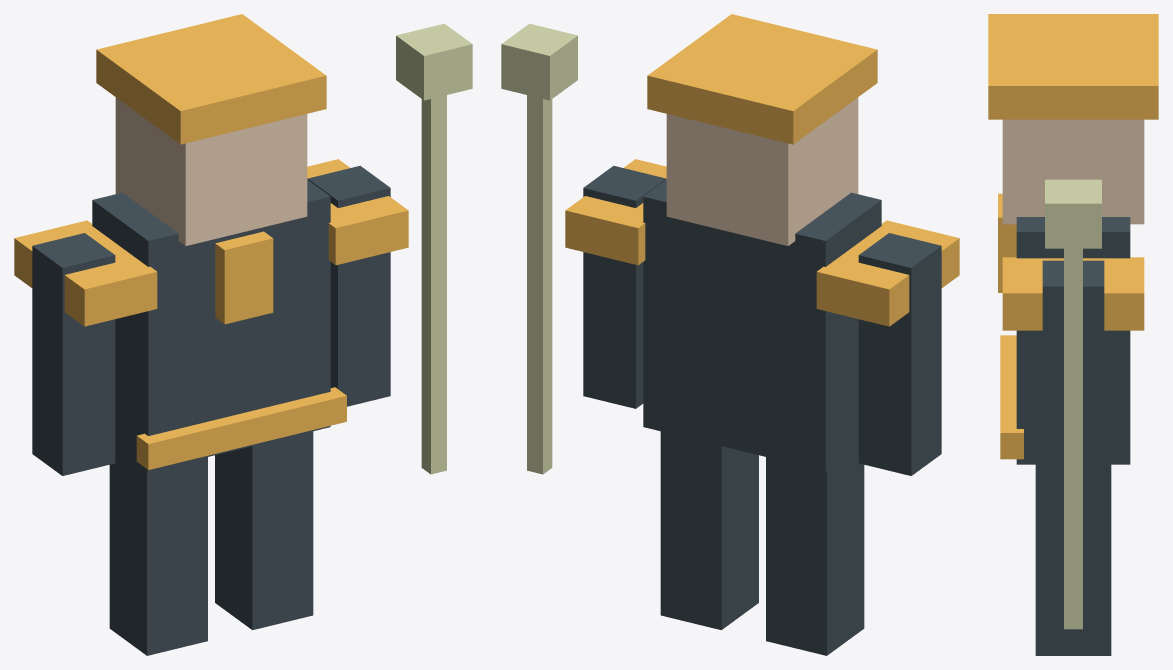
File: 03_rook_cragwarden_courier_near_revision.glb
3 views of the same model, side by side, from view 1: azimuth 30°, elevation 25°; view 2: azimuth 150°, elevation 25°; view 3: azimuth 270°, elevation 25° (orthographic).
Visible parts, largest first — view 1: Rook Cragwarden, Courier near Revision; view 2: Rook Cragwarden, Courier near Revision; view 3: Rook Cragwarden, Courier near Revision.
Part boxes in pixels (x1,y1,x2,y2): Rook Cragwarden, Courier near Revision: (14, 14, 472, 655); Rook Cragwarden, Courier near Revision: (501, 14, 959, 655); Rook Cragwarden, Courier near Revision: (988, 14, 1158, 655).
Size of the model in its own units: 1.09 by 1.42 by 0.3871.
